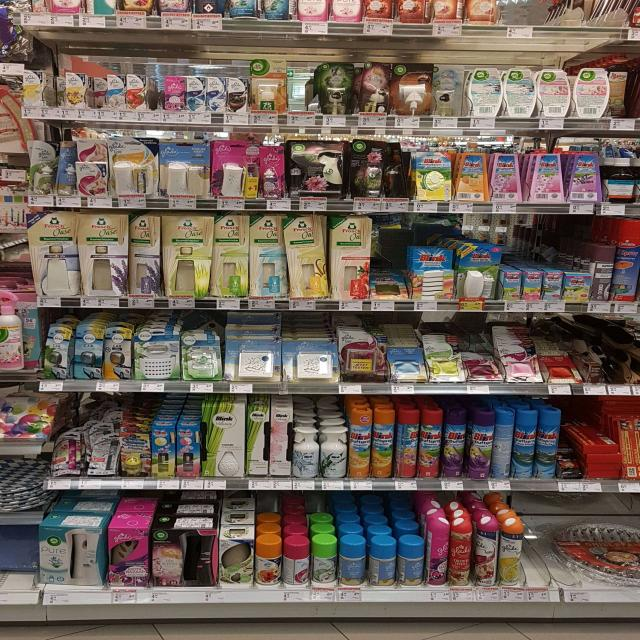empty: (290, 55, 320, 132)
